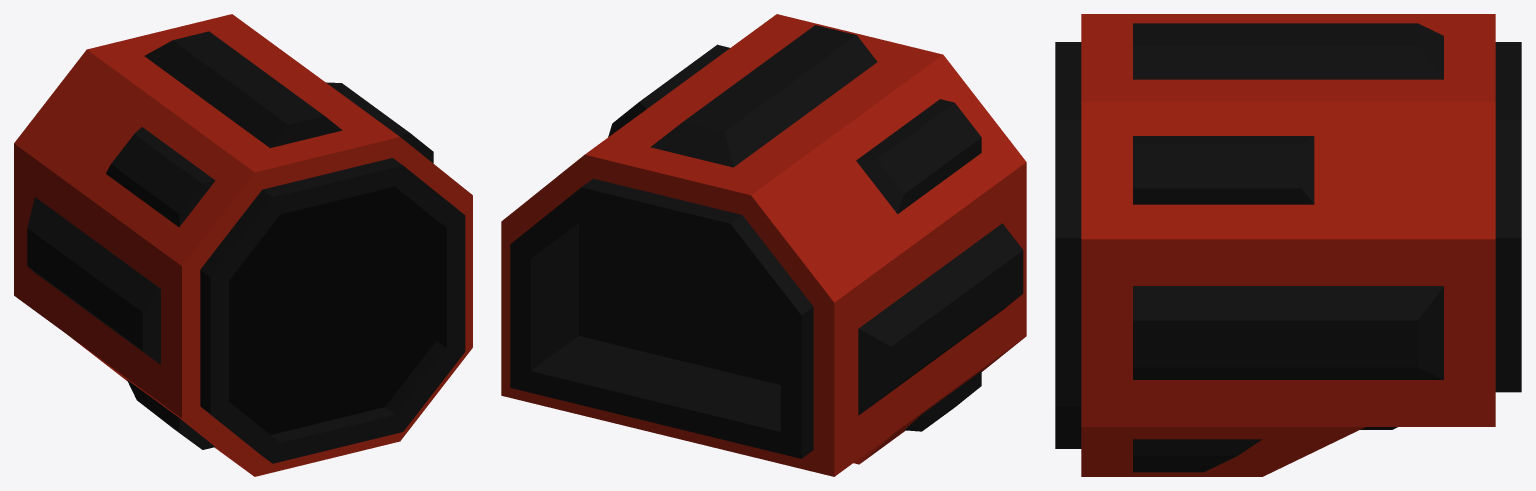
The picture shows the model from 3 angles, left to right: view 1: azimuth 30°, elevation 25°; view 2: azimuth 150°, elevation 25°; view 3: azimuth 270°, elevation 25°; orthographic projection. The views are drawn at different scales.
Parts seen in each view (by area): view 1: Body; view 2: Body; view 3: Body.
Part boxes in pixels (left/top/right/bottom): Body: left=14, top=14, right=472, bottom=476; Body: left=501, top=14, right=1026, bottom=476; Body: left=1055, top=14, right=1521, bottom=476.
Size of the model in its own units: 1800 by 1800 by 1800.
